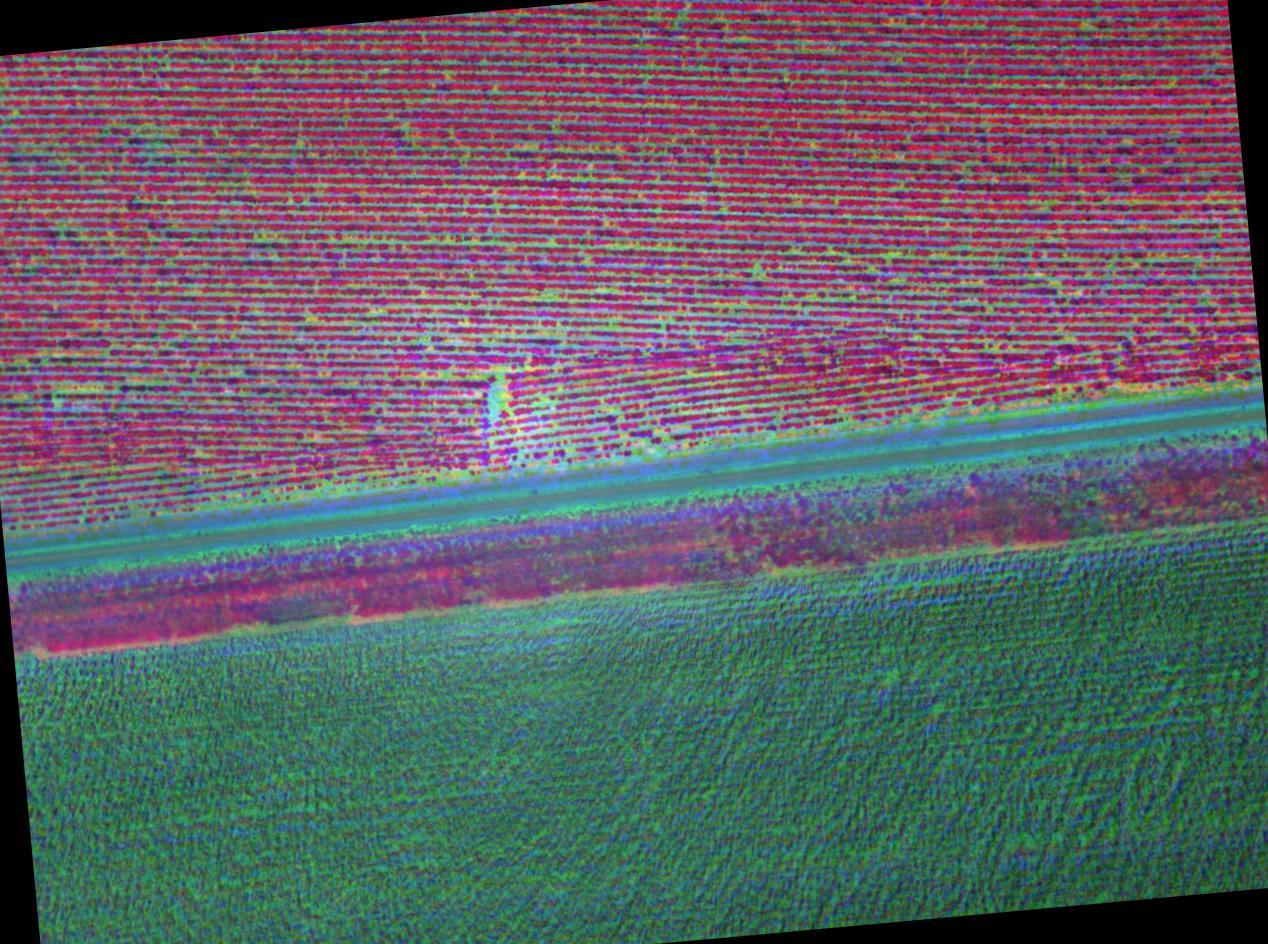dc: (58, 226, 64, 238), (370, 305, 376, 315), (987, 305, 993, 314), (306, 314, 312, 320), (886, 255, 891, 261)
